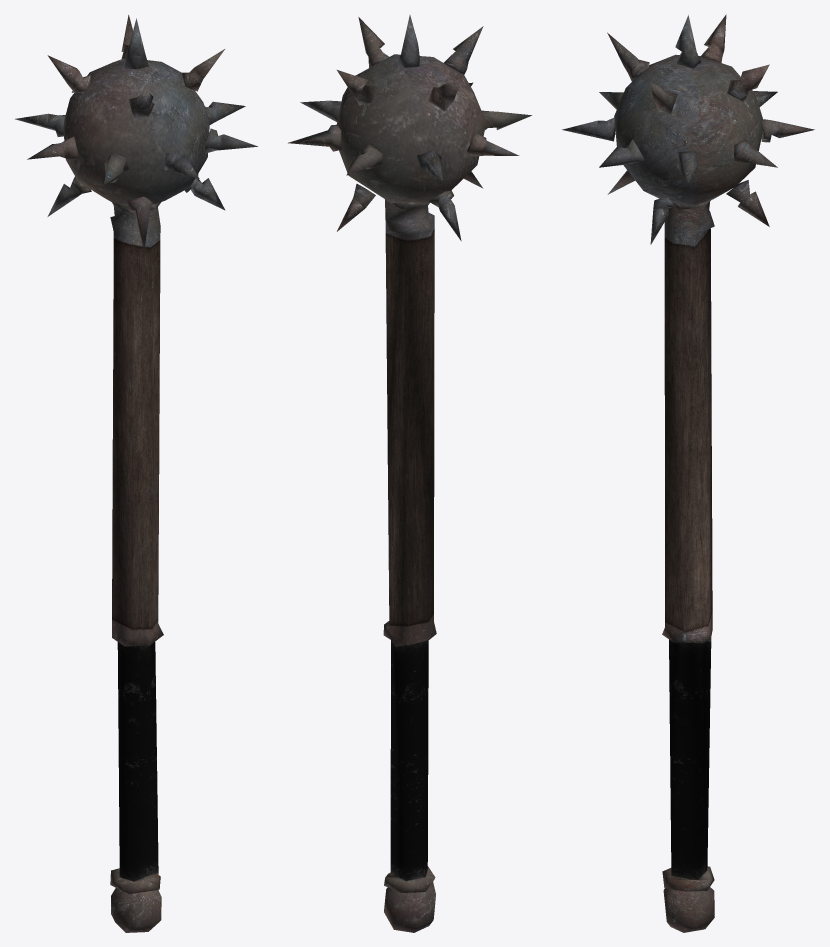
File: Model_Mace.fbx
3 views of the same model, side by side, from view 1: azimuth 30°, elevation 25°; view 2: azimuth 150°, elevation 25°; view 3: azimuth 270°, elevation 25° (orthographic).
Parts seen in each view (by area): view 1: Handle; view 2: Handle; view 3: Handle.
Part boxes in pixels (x1,y1,x2,y2): Handle: (15, 15, 257, 932); Handle: (288, 15, 531, 932); Handle: (562, 14, 814, 932).
Size of the model in its own units: 80.62 by 319 by 80.62.
